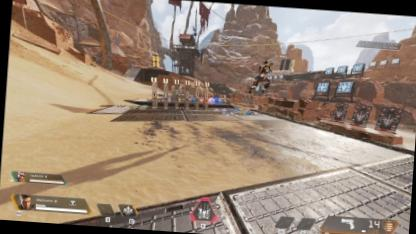Target: (251, 58, 273, 93)
